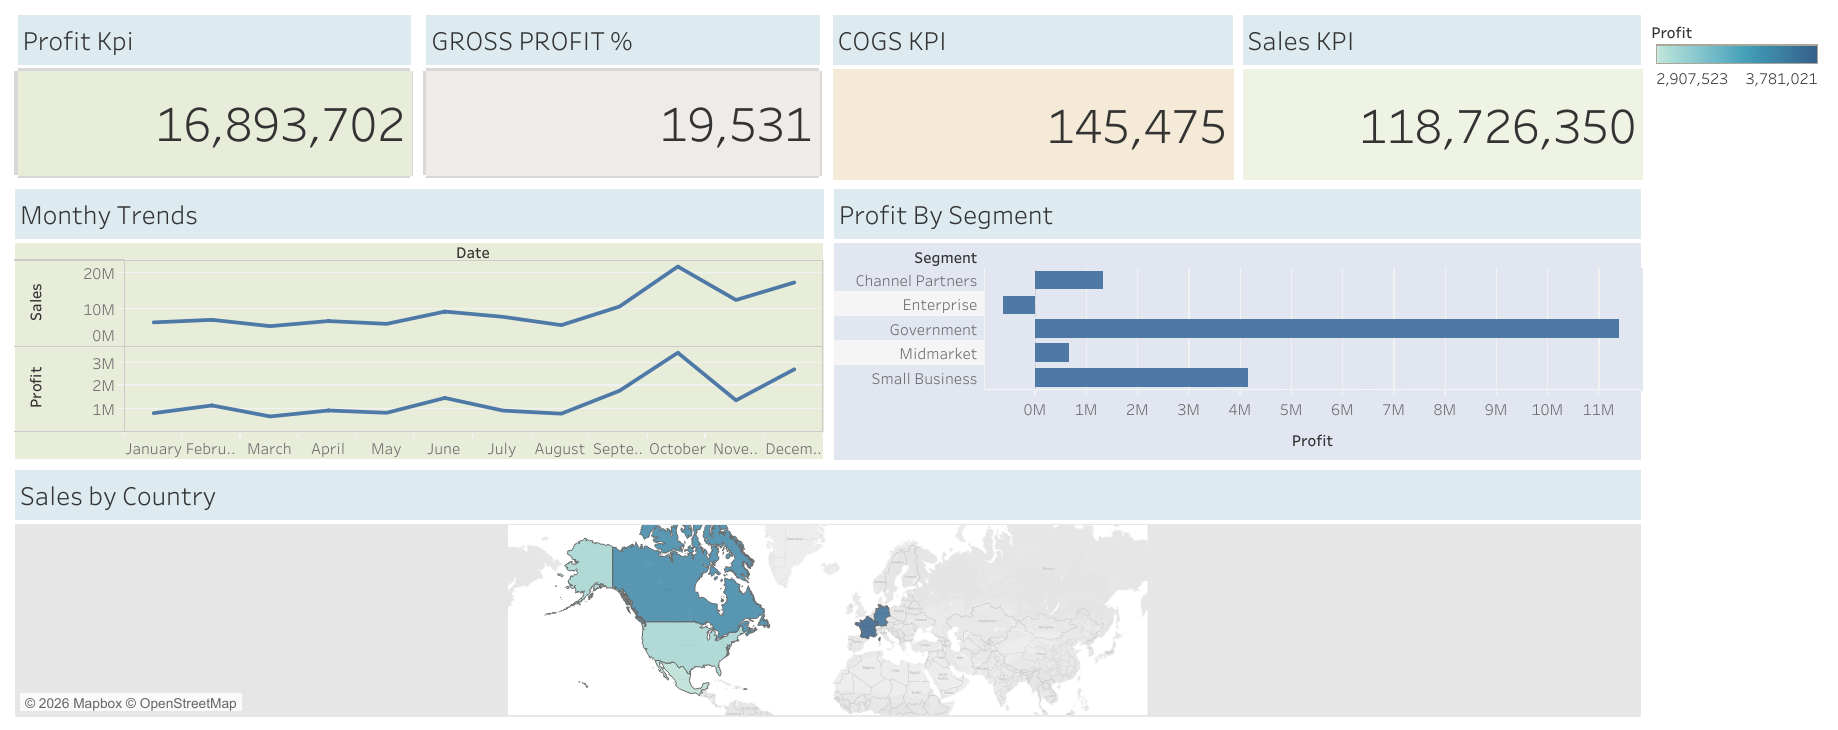

The dashboard page shown, as its layout file describes it:
{"tool":"tableau","page":{"name":"Dashboard 1","canvas":[1000,1000],"units":"permille","ordinal":0},"visuals":[{"type":"worksheet","title":"Sheet 2","mark":"Automatic","box":[5.1,10,224.3,239.7]},{"type":"worksheet","title":"Sheet 4","mark":"Automatic","box":[229.4,10,224.3,239.7]},{"type":"worksheet","title":"Sheet 3","mark":"Automatic","box":[453.8,10,224.3,239.7]},{"type":"worksheet","title":"Sheet 1","mark":"Automatic","box":[678.1,10,224.4,239.7]},{"type":"legend","title":"Sales by Country","param":"[federated.1y76w8q0t57scd142um021r4unul].[sum:Profit:qk]","box":[902.5,10,92.5,91.1]},{"type":"worksheet","title":"Monthy Trends","mark":"Automatic","rows":["Sales","Profit"],"cols":["Date"],"box":[5.1,249.7,449,387]},{"type":"worksheet","title":"Profit By Segment","mark":"Automatic","rows":["Segment"],"cols":["Profit"],"box":[454.1,249.7,448.4,387]},{"type":"worksheet","title":"Sales by Country","mark":"Automatic","box":[5.1,636.7,897.4,353.3]}]}

Visuals, with their boxes on the dashboard's canvas, which has no fixed pixel size, in thousandths of its width and height (x1, y1, x2, y2). These are canvas units, not pixel positions in the 1838x730 screenshot, which may show the page scaled, cropped or inside an application window:
"Sheet 2" worksheet: {"x1": 5, "y1": 10, "x2": 229, "y2": 250}
"Sheet 4" worksheet: {"x1": 229, "y1": 10, "x2": 454, "y2": 250}
"Sheet 3" worksheet: {"x1": 454, "y1": 10, "x2": 678, "y2": 250}
"Sheet 1" worksheet: {"x1": 678, "y1": 10, "x2": 902, "y2": 250}
"Sales by Country" legend: {"x1": 902, "y1": 10, "x2": 995, "y2": 101}
"Monthy Trends" worksheet: {"x1": 5, "y1": 250, "x2": 454, "y2": 637}
"Profit By Segment" worksheet: {"x1": 454, "y1": 250, "x2": 902, "y2": 637}
"Sales by Country" worksheet: {"x1": 5, "y1": 637, "x2": 902, "y2": 990}
